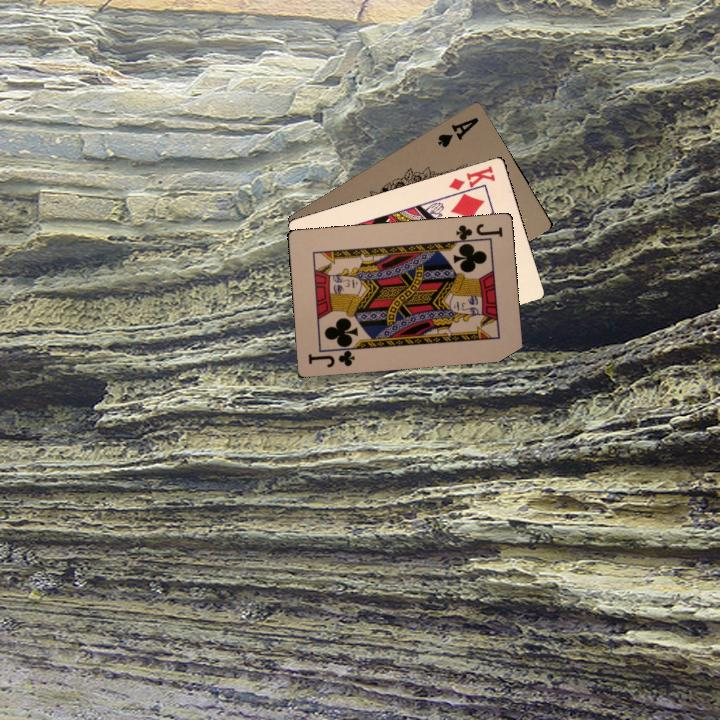As: (433, 113, 481, 150)
Jc: (304, 342, 358, 370), (451, 220, 505, 246)
Kd: (446, 162, 498, 199)
